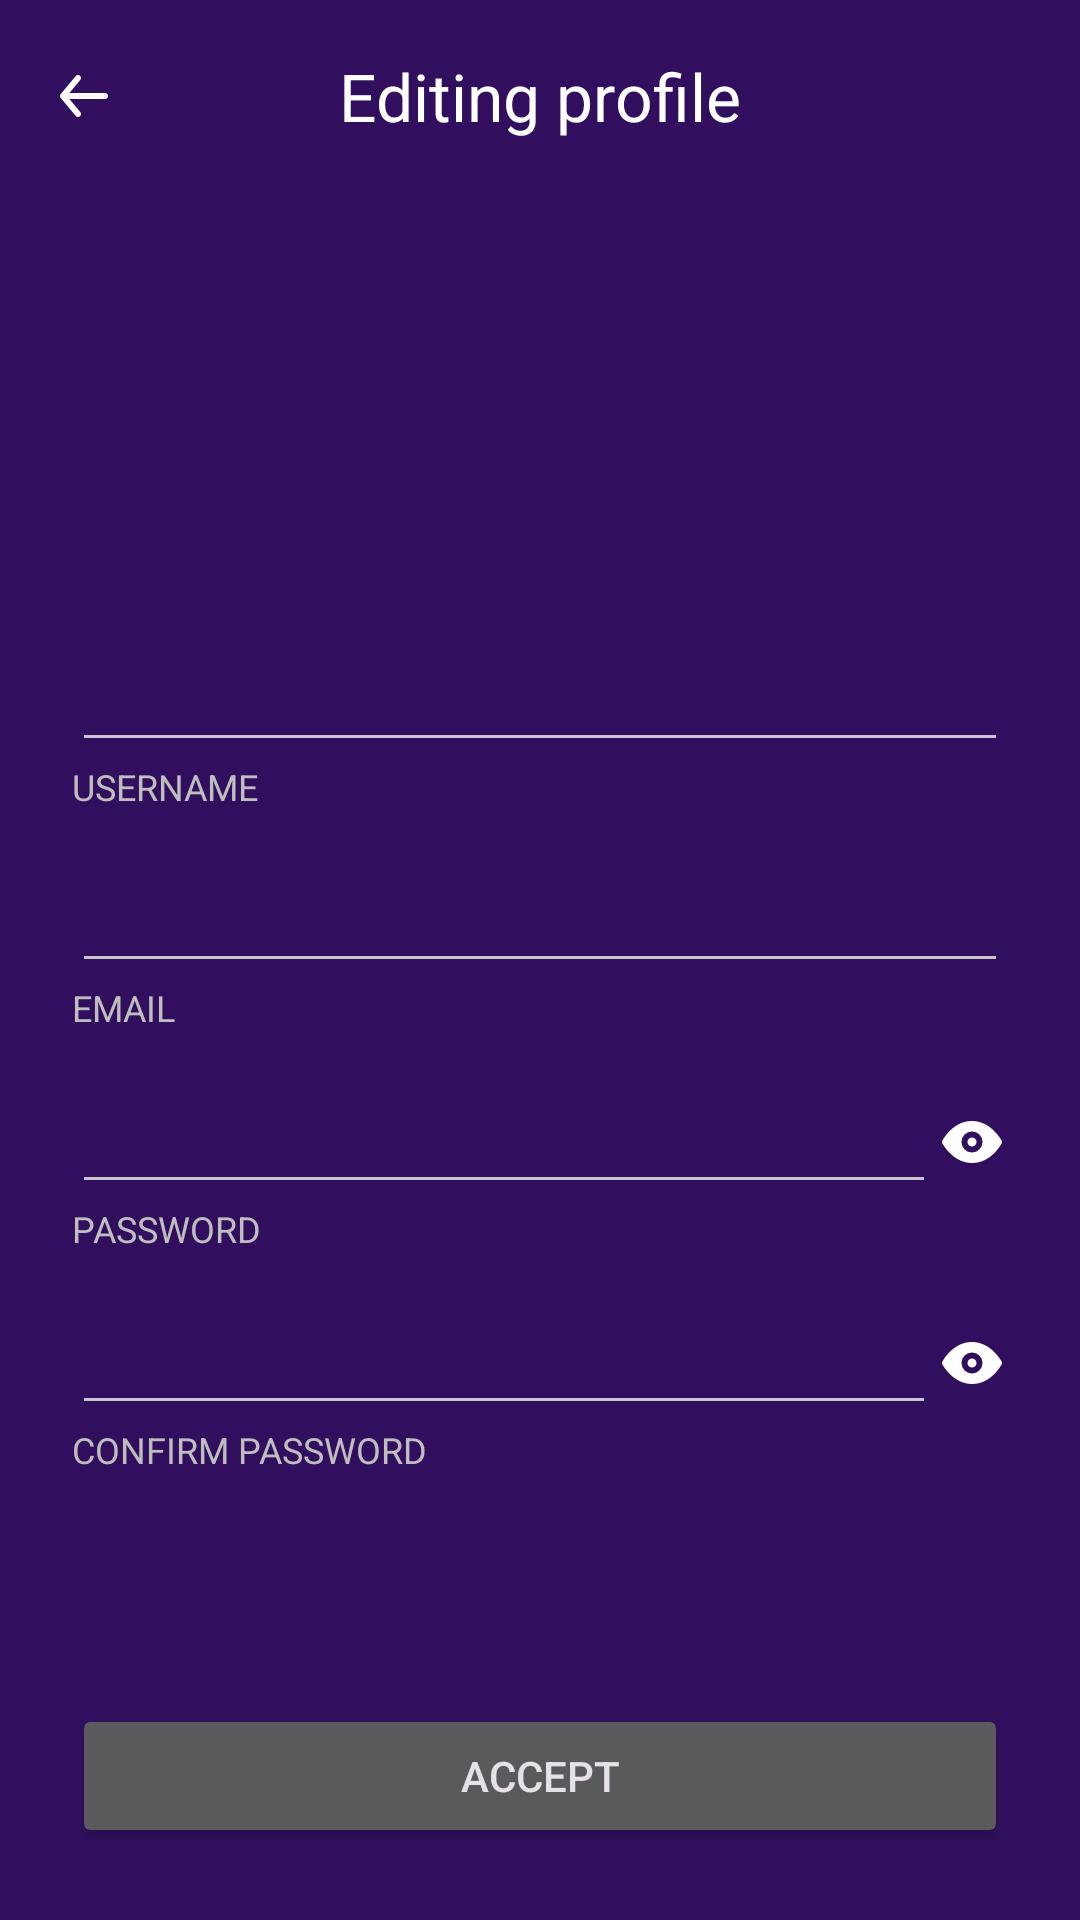

Icons on this 1080w x 1920h Android screen, each with its box as (x1,y1,x2,y2):
eye: (942,1121,1002,1163), (942,1342,1002,1384)
